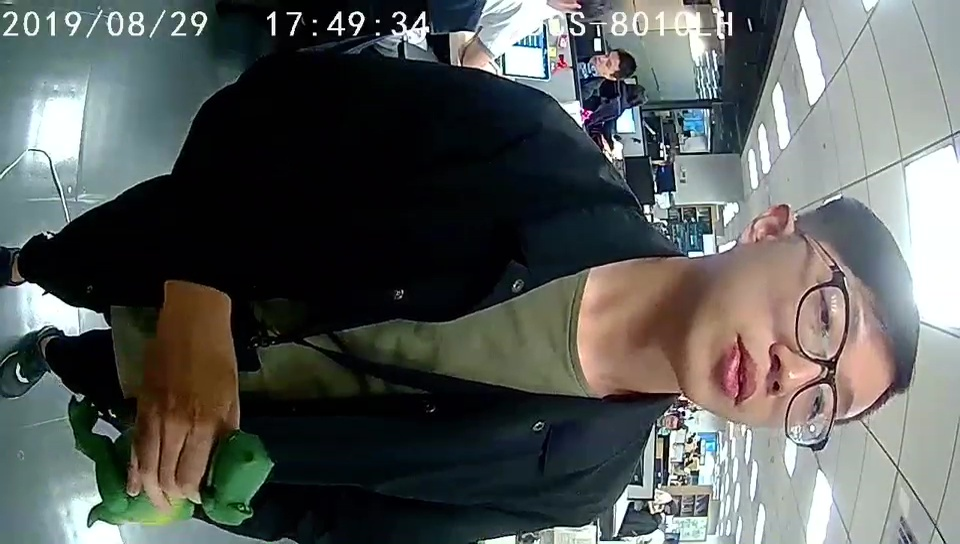rex: (66, 394, 275, 530)
